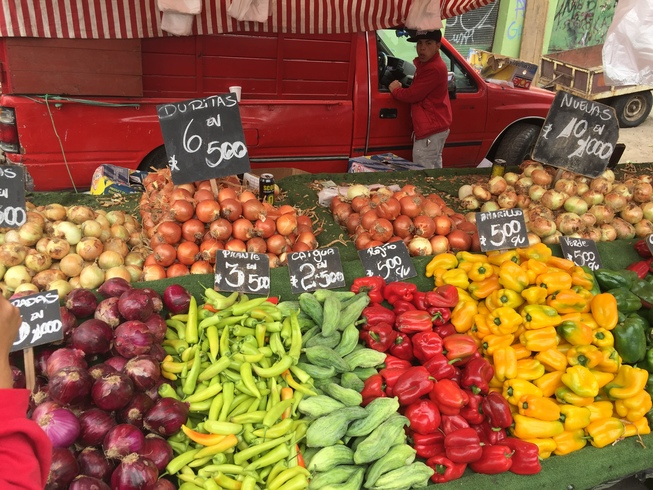precio: (153, 90, 258, 195), (538, 94, 623, 184), (1, 284, 71, 360), (283, 248, 351, 303), (472, 207, 544, 258), (210, 247, 273, 300), (362, 236, 427, 287), (565, 226, 610, 270)
